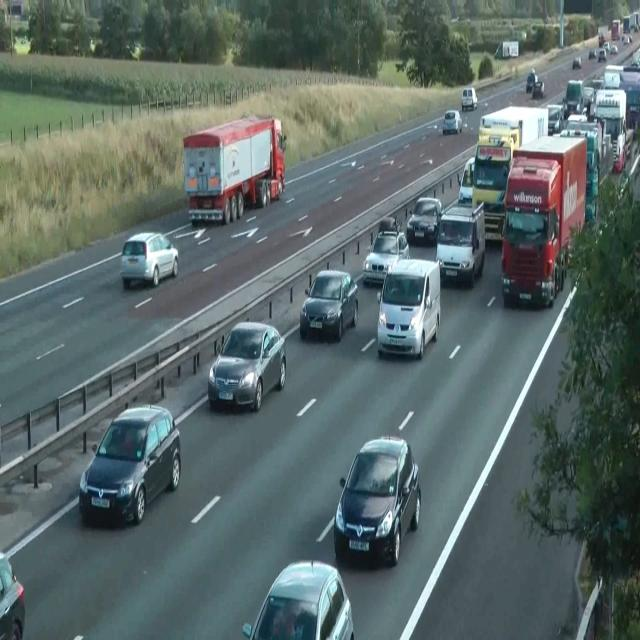bus: (242, 559, 354, 639), (208, 320, 286, 412), (299, 268, 359, 342), (120, 231, 178, 289), (362, 218, 410, 284), (0, 551, 26, 639), (406, 196, 442, 244), (457, 156, 475, 204), (546, 104, 564, 134), (442, 110, 462, 134), (526, 70, 544, 95), (461, 86, 477, 110), (612, 146, 626, 173), (532, 81, 544, 99), (602, 42, 618, 54), (572, 56, 582, 69), (622, 34, 632, 44), (598, 49, 606, 61), (598, 32, 604, 47)
jeep: (79, 403, 181, 526), (333, 434, 421, 566), (376, 257, 440, 359), (434, 200, 486, 287)
minibus: (500, 134, 587, 308), (182, 113, 286, 225), (471, 133, 513, 243), (559, 118, 603, 222), (478, 105, 548, 151), (593, 88, 627, 172), (604, 65, 640, 131), (494, 40, 518, 59), (622, 11, 640, 33), (611, 19, 620, 40)
